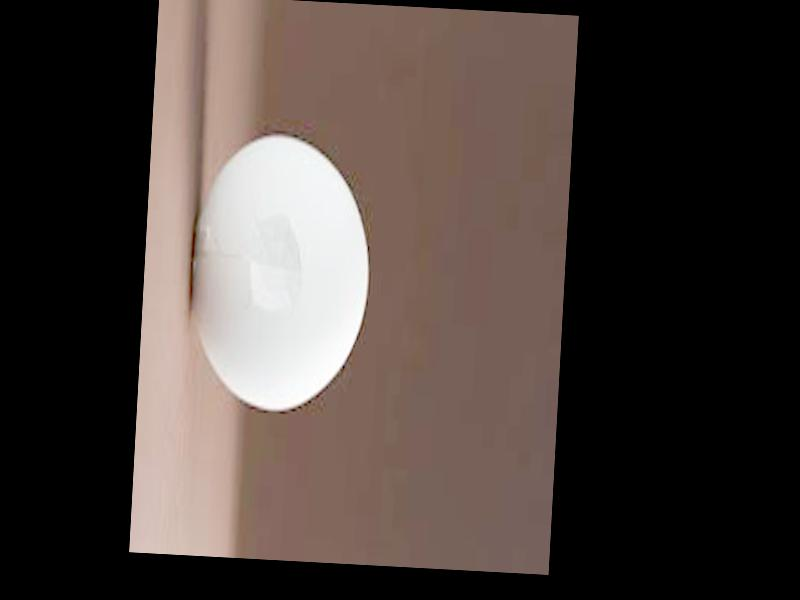Eggs: (184, 135, 375, 414)
